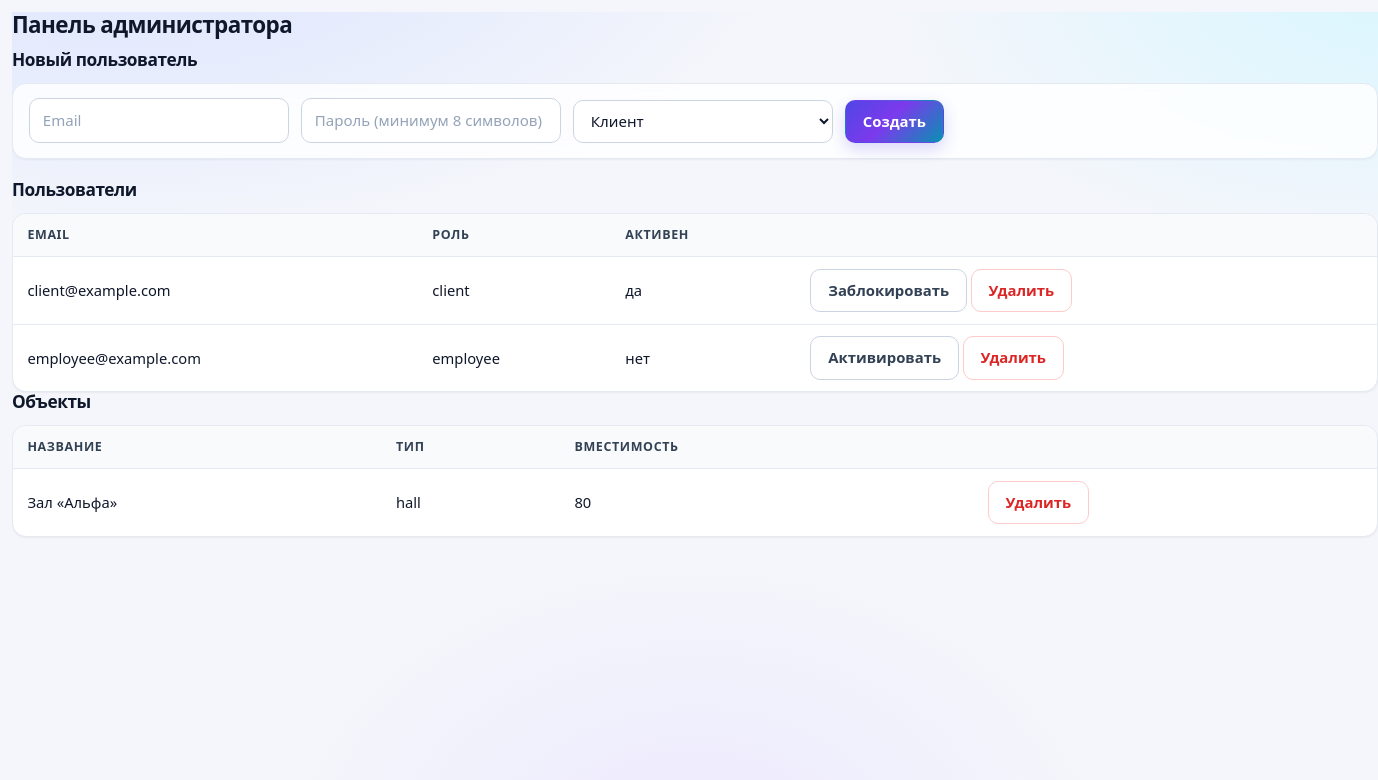
Admin › создаёт пользователя и показывает уведомление
This screenshot has width=1378, height=780.
Expected: the text "client@example.com" is shown, [13,257,418,325]
Type "new@example.com" into the field with placeholder "Email" at (159, 121), box [29,98,289,143]
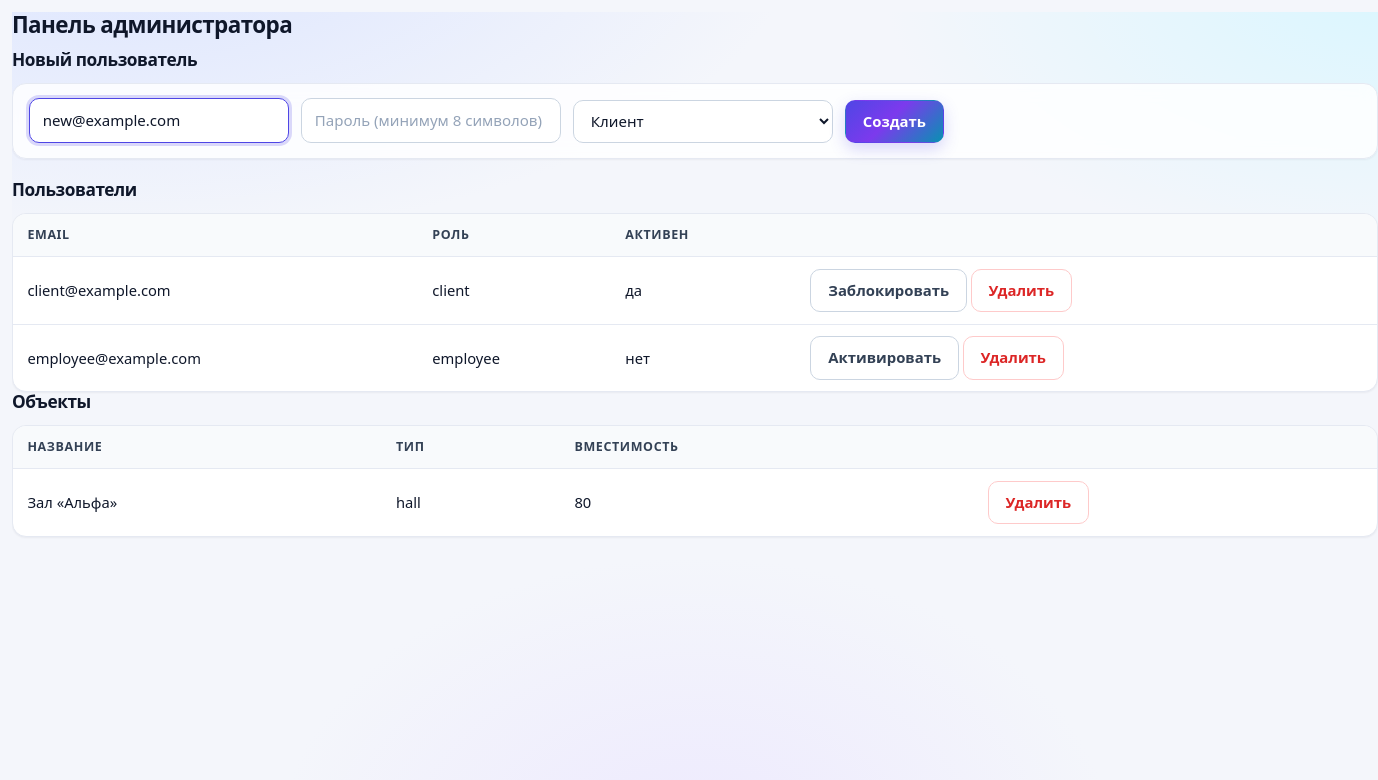
Type "NewPass123!" into the password field with placeholder "Пароль (минимум 8 символов)" at (431, 121), box [301,98,561,143]
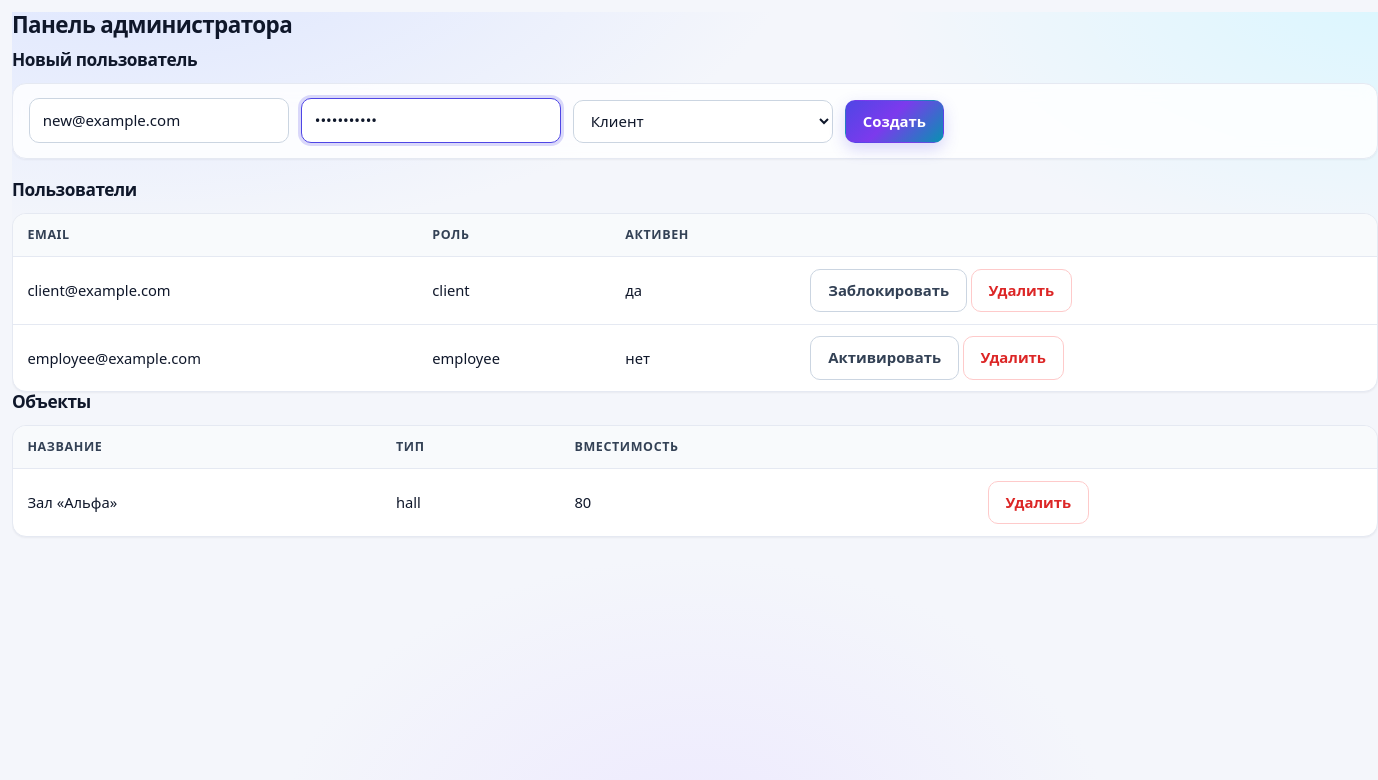
Select "Сотрудник" in the dropdown at (703, 121), box [573,100,833,143]
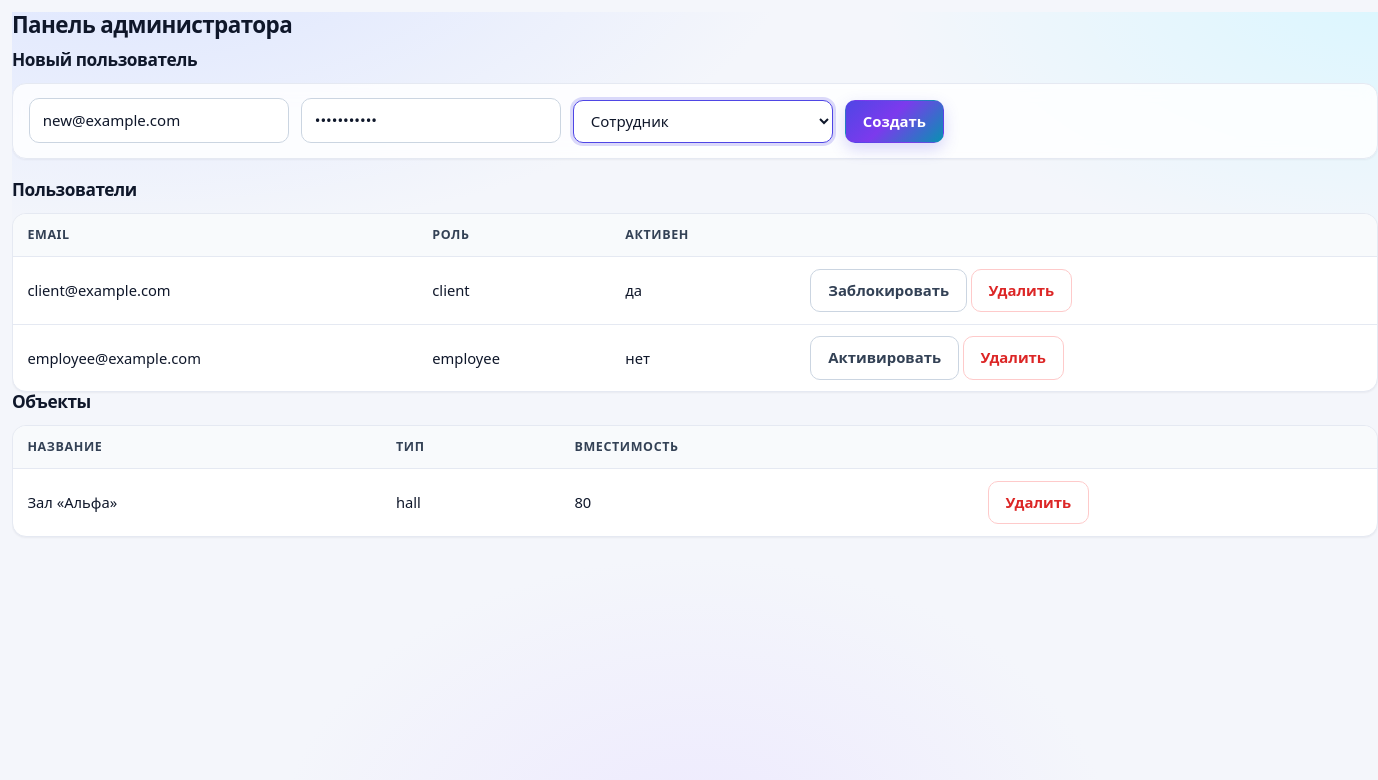
Click the button "Создать" at (894, 122), box [845,100,944,143]
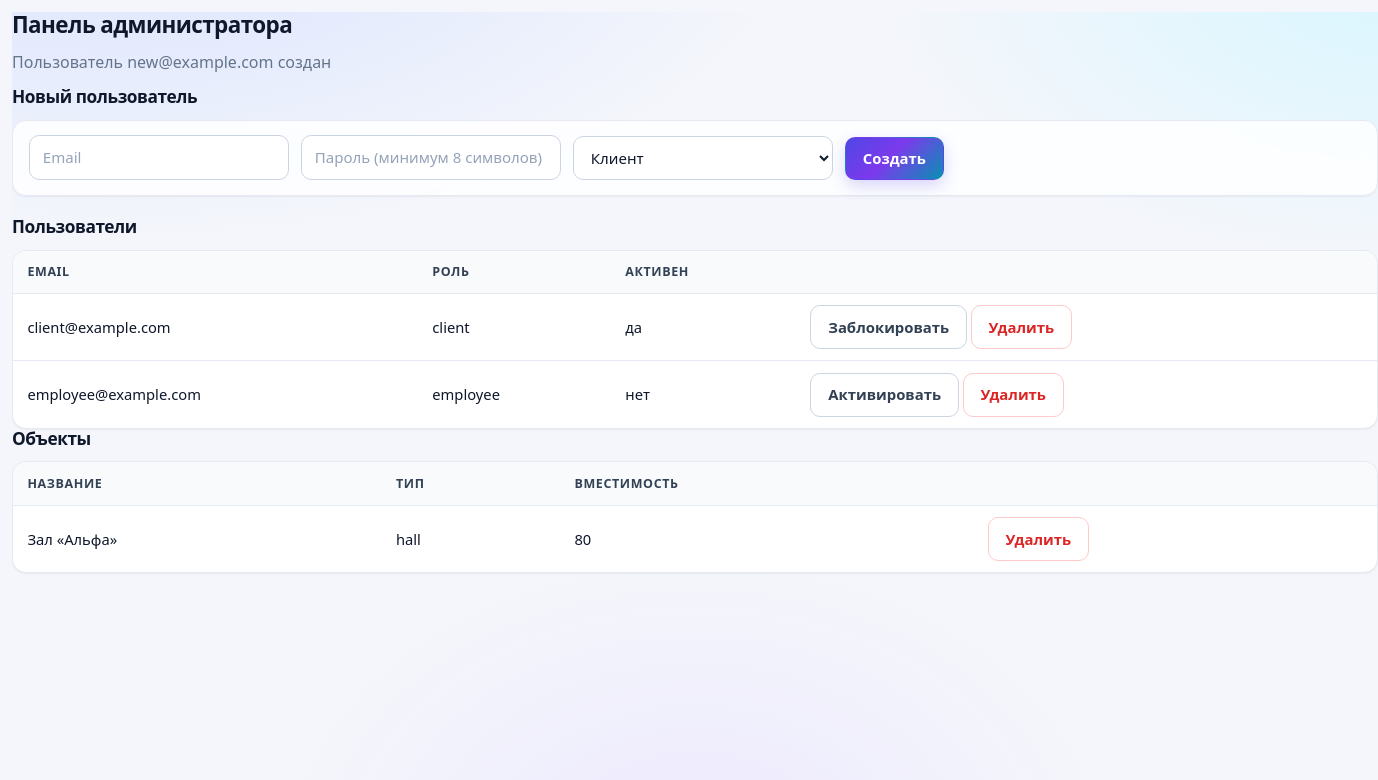
Expected: the text "Пользователь new@example.com создан" is shown, [12,51,331,73]
